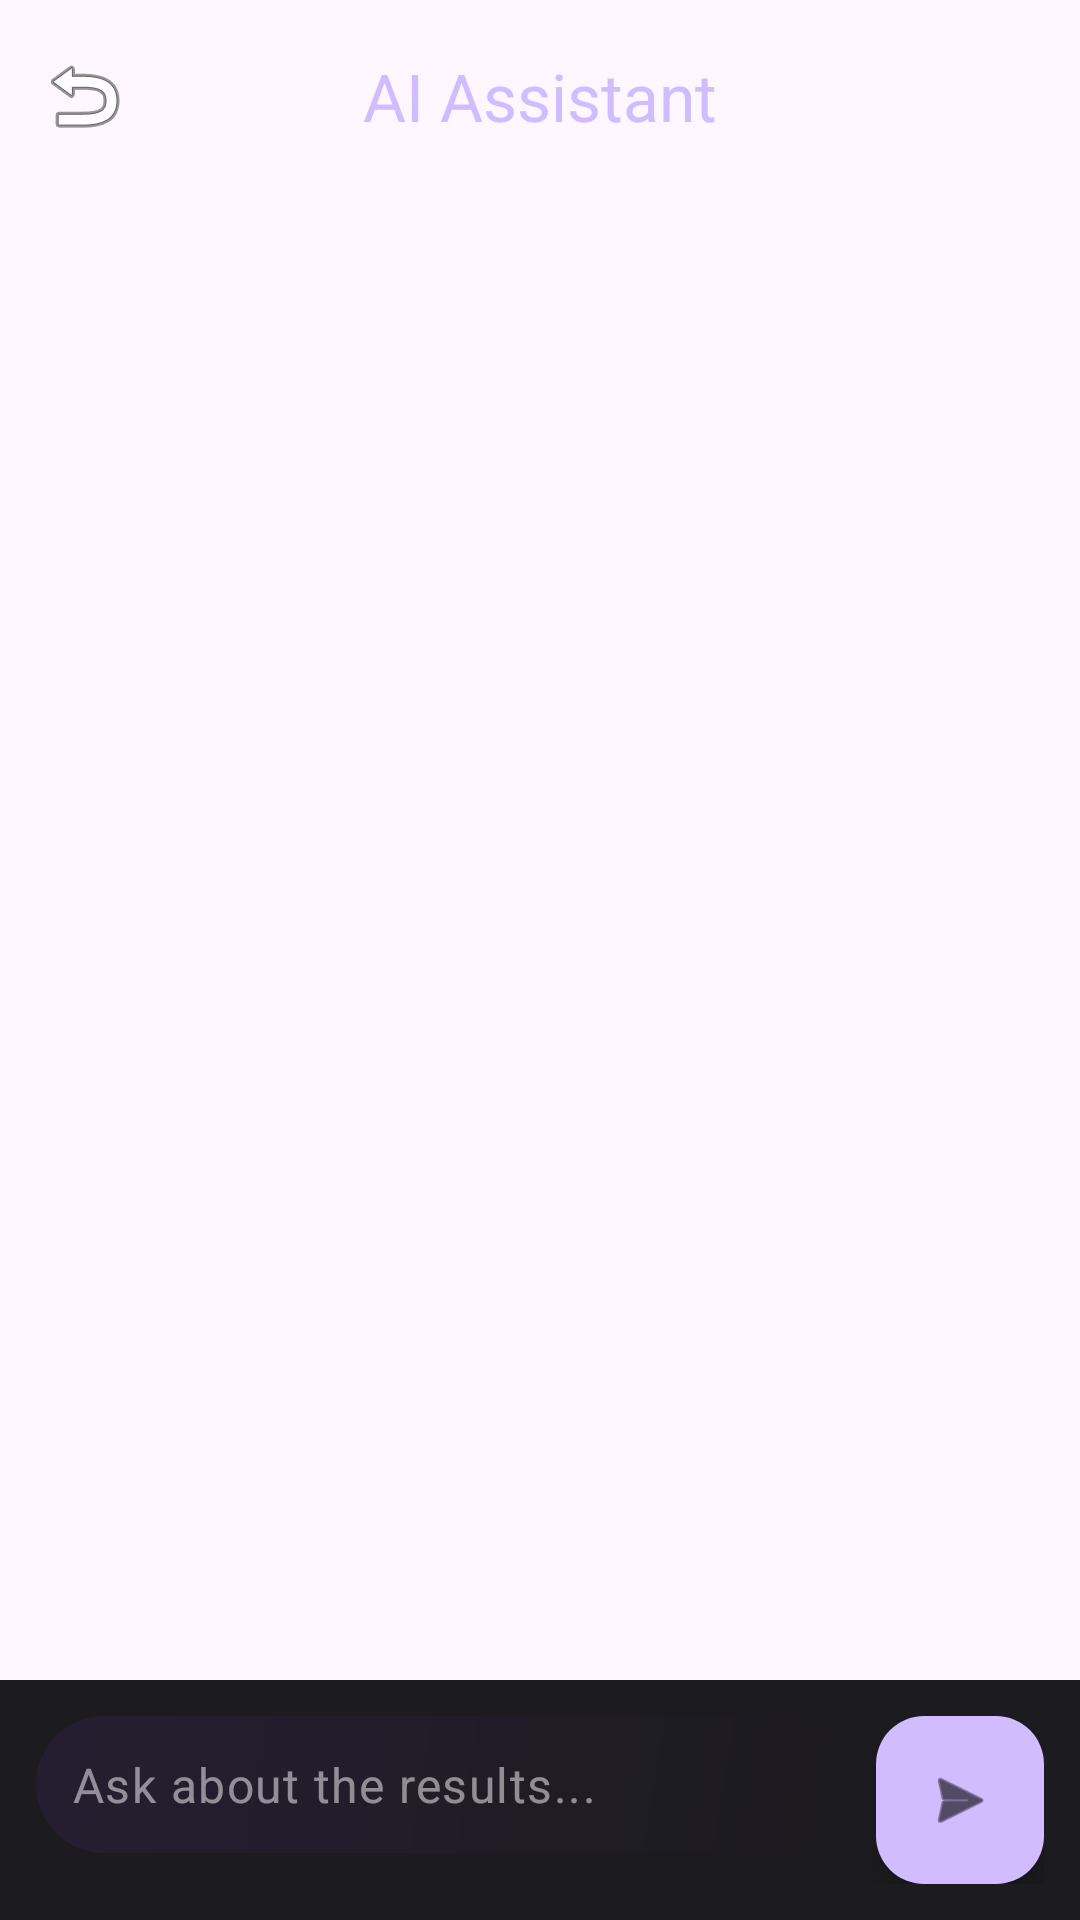

Screen size 1080px×1920px. Icon name, then its box in pixels as (x1, y1, x2, y2):
send: (876, 1716, 1044, 1884)
